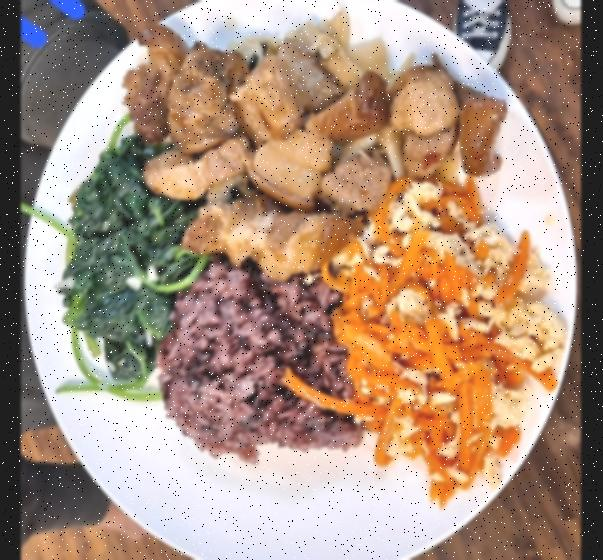braised pork: (120, 19, 512, 274)
plate: (28, 0, 582, 560)
purple rice: (158, 264, 357, 463)
side dish: (333, 182, 557, 508), (61, 145, 204, 402)
